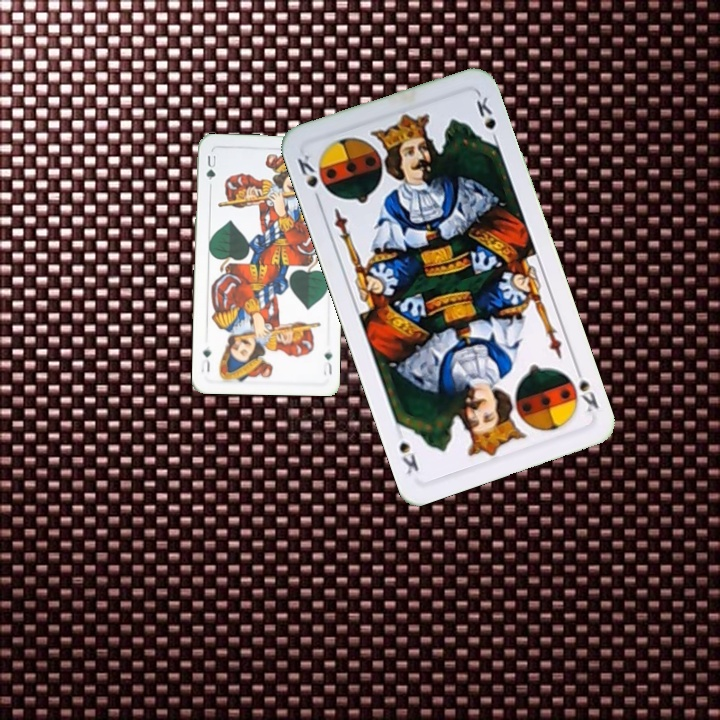GU: (202, 151, 218, 182), (319, 348, 335, 378)
SK: (562, 361, 602, 415), (293, 150, 324, 207)
